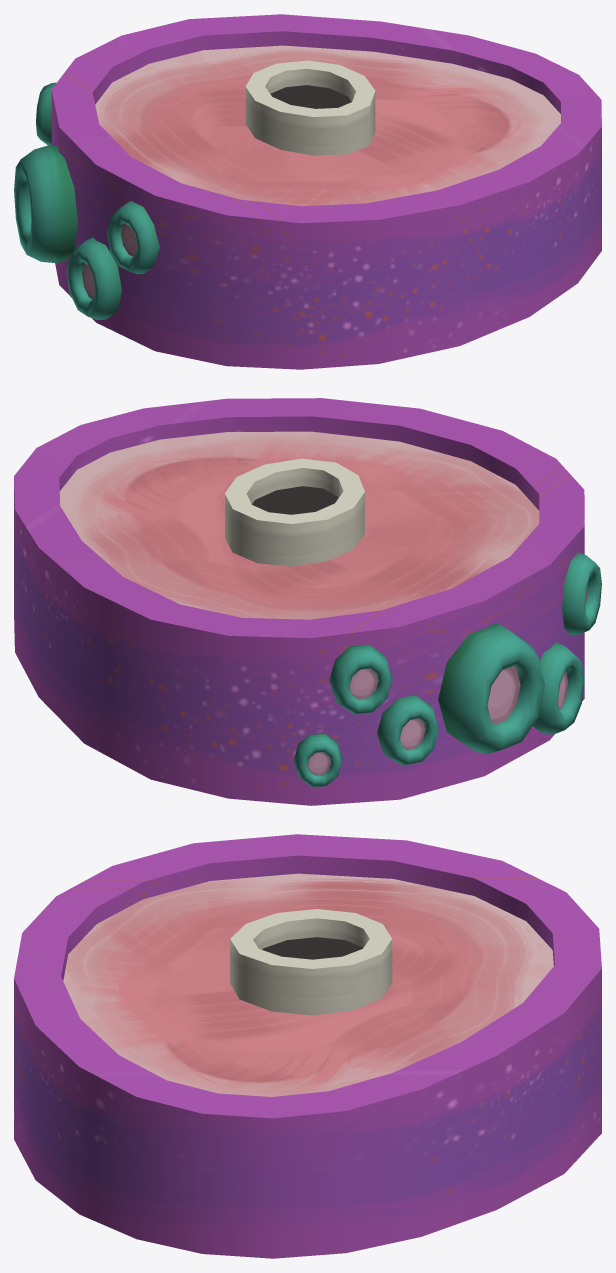
Rendered from Steak.fbx.
3 views of the same model, one above another, from view 1: azimuth 30°, elevation 25°; view 2: azimuth 150°, elevation 25°; view 3: azimuth 270°, elevation 25° (orthographic). The views are drawn at different scales.
Visible parts, largest first — view 1: Steak; view 2: Steak; view 3: Steak.
Boxes of the visible parts, left/top/right/bottom form: Steak: left=14, top=14, right=601, bottom=369; Steak: left=14, top=398, right=601, bottom=805; Steak: left=14, top=834, right=601, bottom=1258.
Size of the model in its own units: 31.31 by 10.41 by 27.76.
